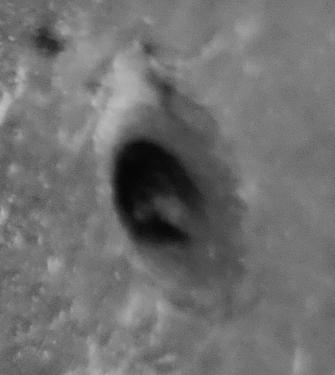missing-head: (1, 0, 335, 375)
